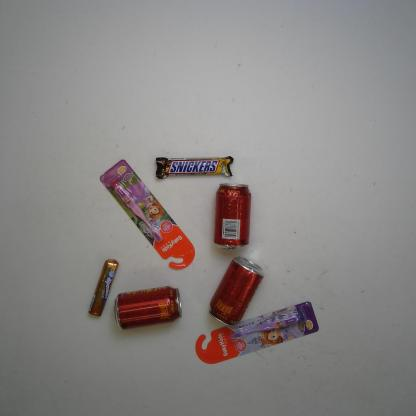Candy: (83, 257, 122, 319)
Chocolate: (152, 152, 234, 180)
Drink: (206, 254, 266, 329), (111, 281, 183, 334), (212, 183, 254, 250)
Personal Hygiene: (98, 157, 198, 273), (193, 299, 321, 369)
